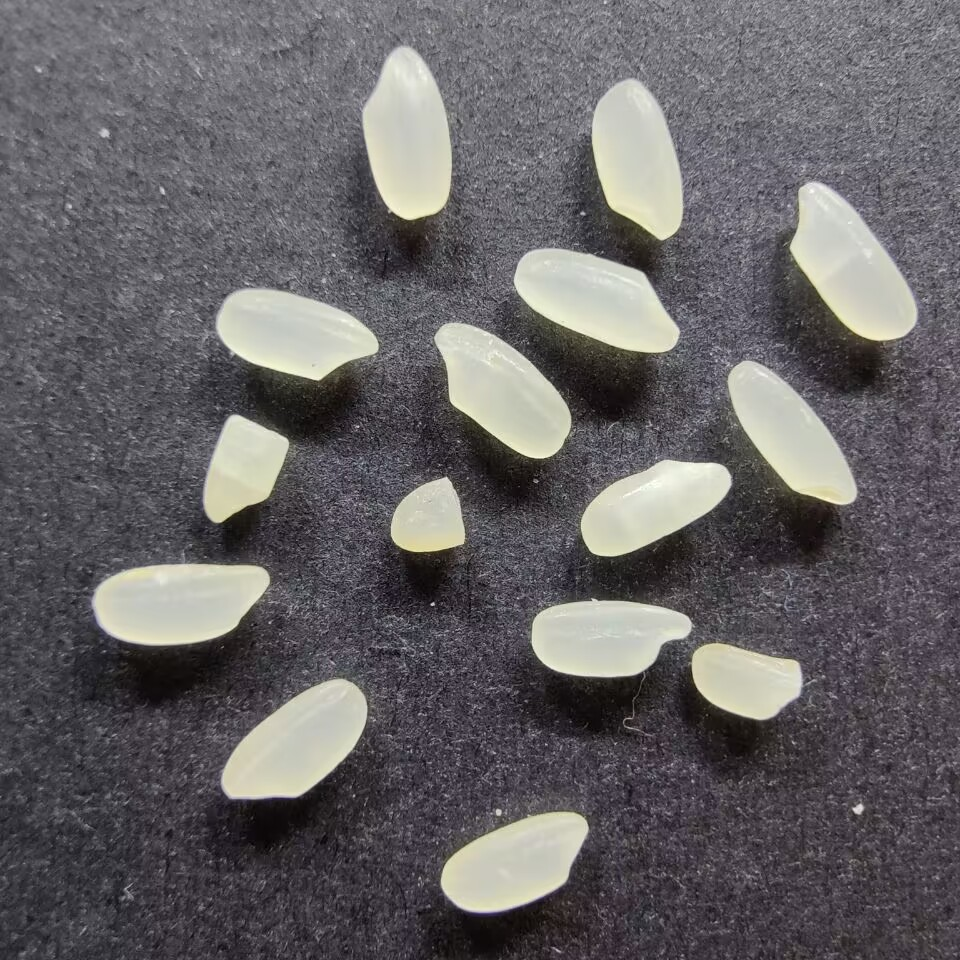broken: (200, 412, 291, 525), (689, 641, 803, 721), (389, 476, 467, 556)
rice: (786, 180, 918, 342), (725, 358, 860, 508), (431, 321, 573, 461), (217, 677, 370, 802), (511, 246, 681, 355), (358, 45, 453, 220), (578, 456, 732, 558), (438, 809, 589, 913), (589, 77, 685, 240), (213, 287, 380, 380), (92, 561, 272, 646), (529, 598, 693, 679)
